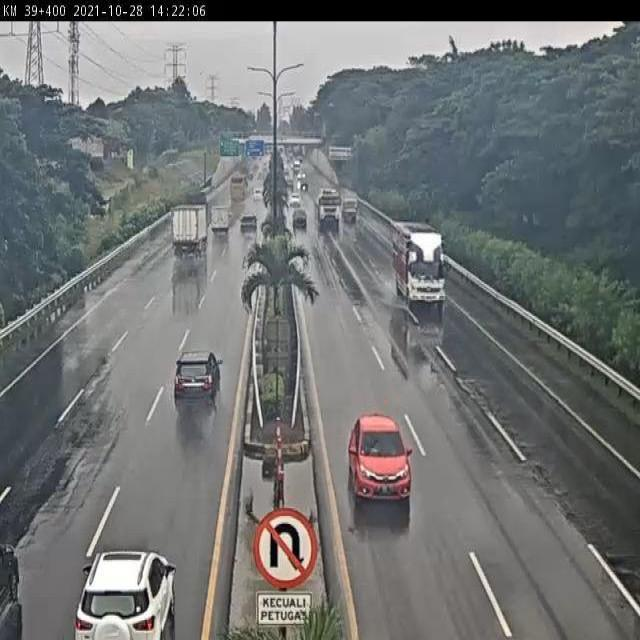car: (76, 542, 184, 640), (346, 413, 412, 512), (171, 349, 224, 407), (239, 210, 259, 238)
truck-l-: (391, 219, 449, 309)
truck-m-: (167, 203, 208, 256)
truck-s-: (209, 204, 234, 240)
